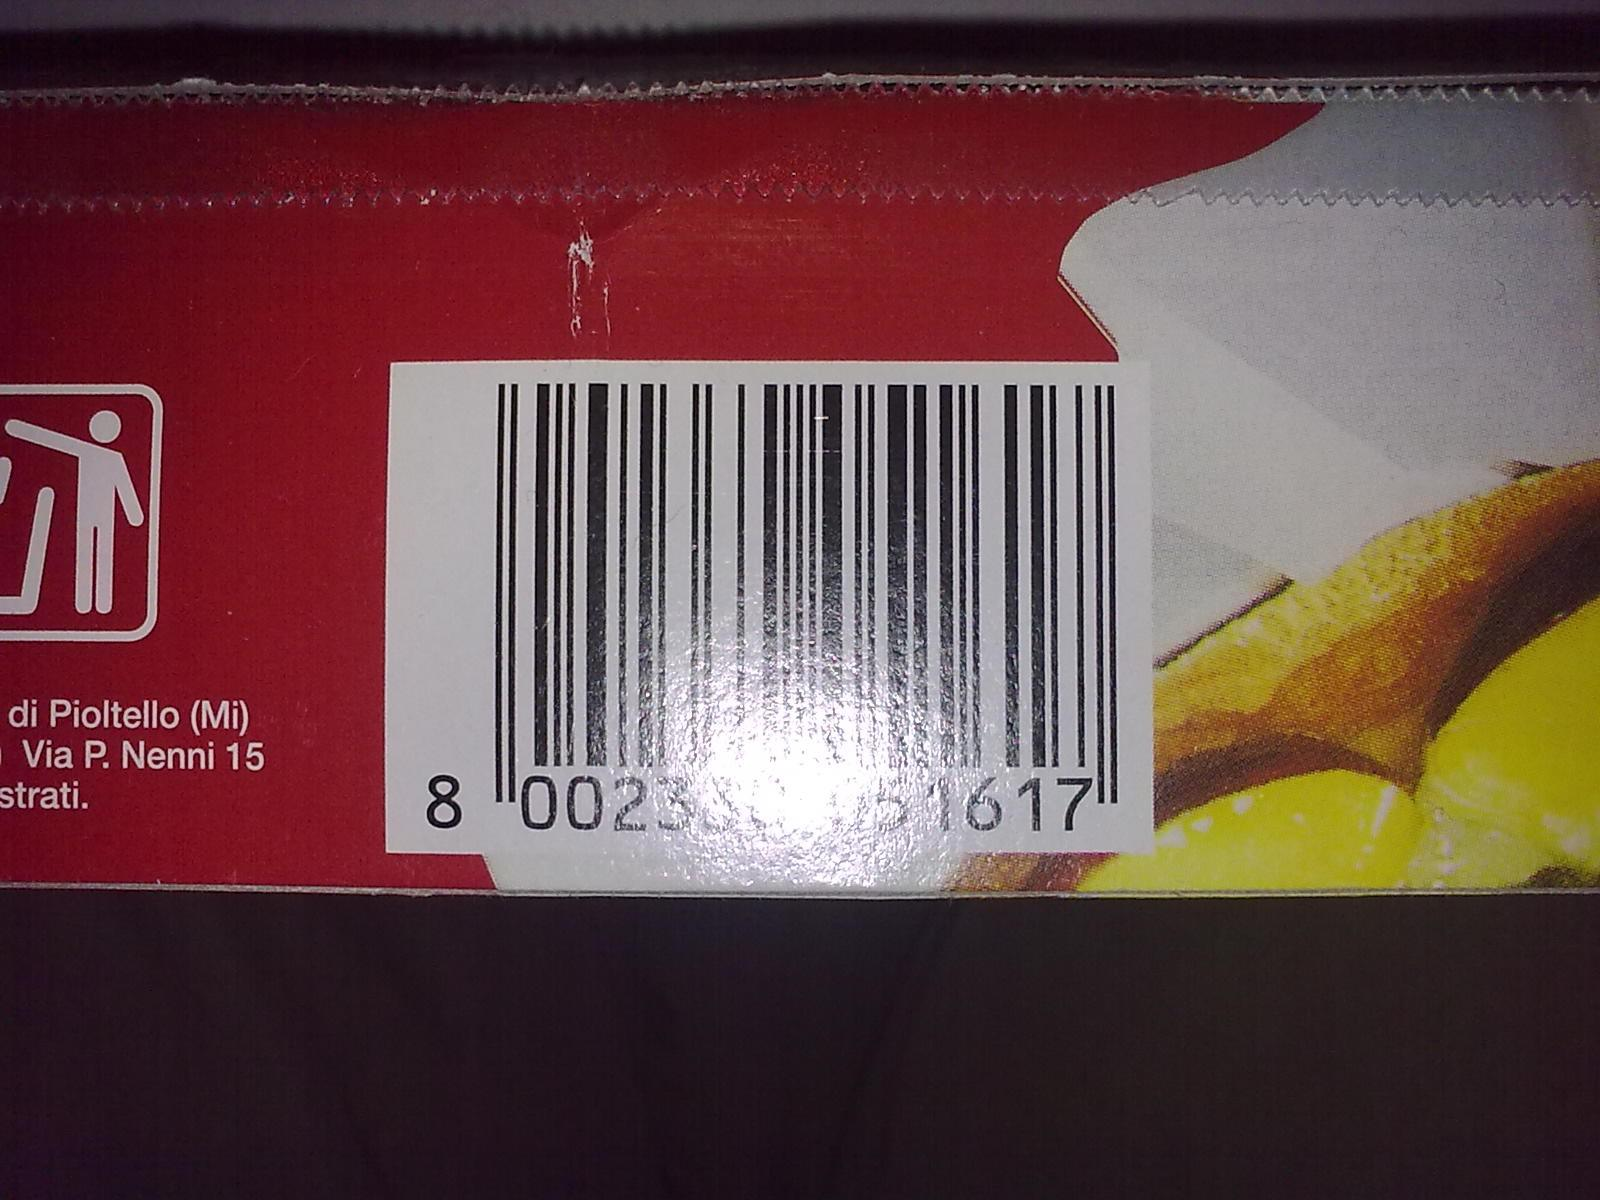Barcode: (375, 354, 1149, 852)
